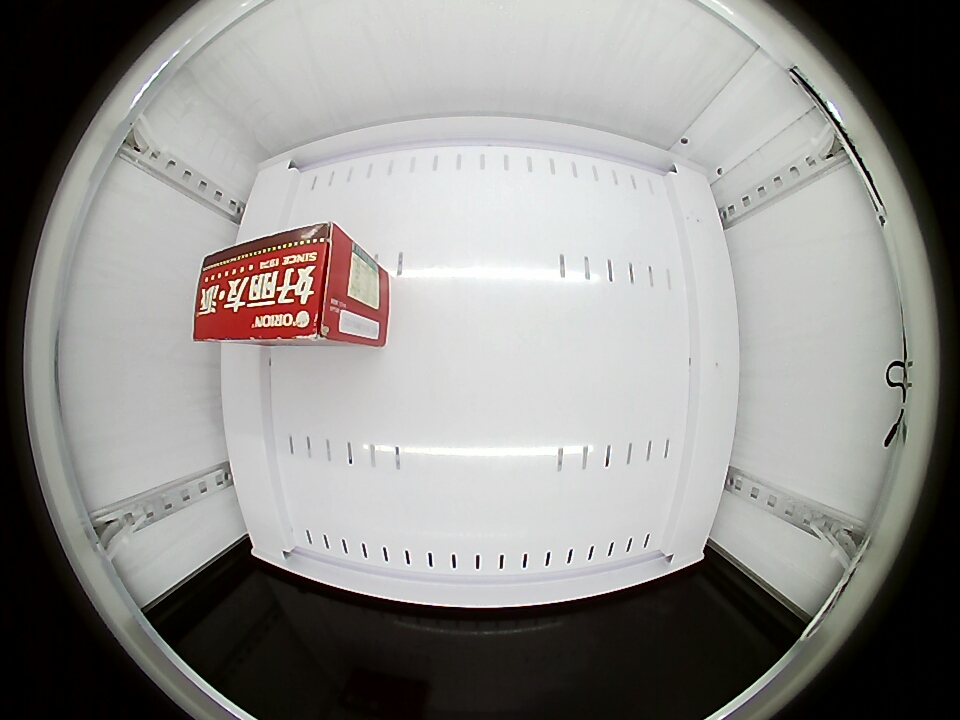haoliyou: (193, 222, 350, 344)
